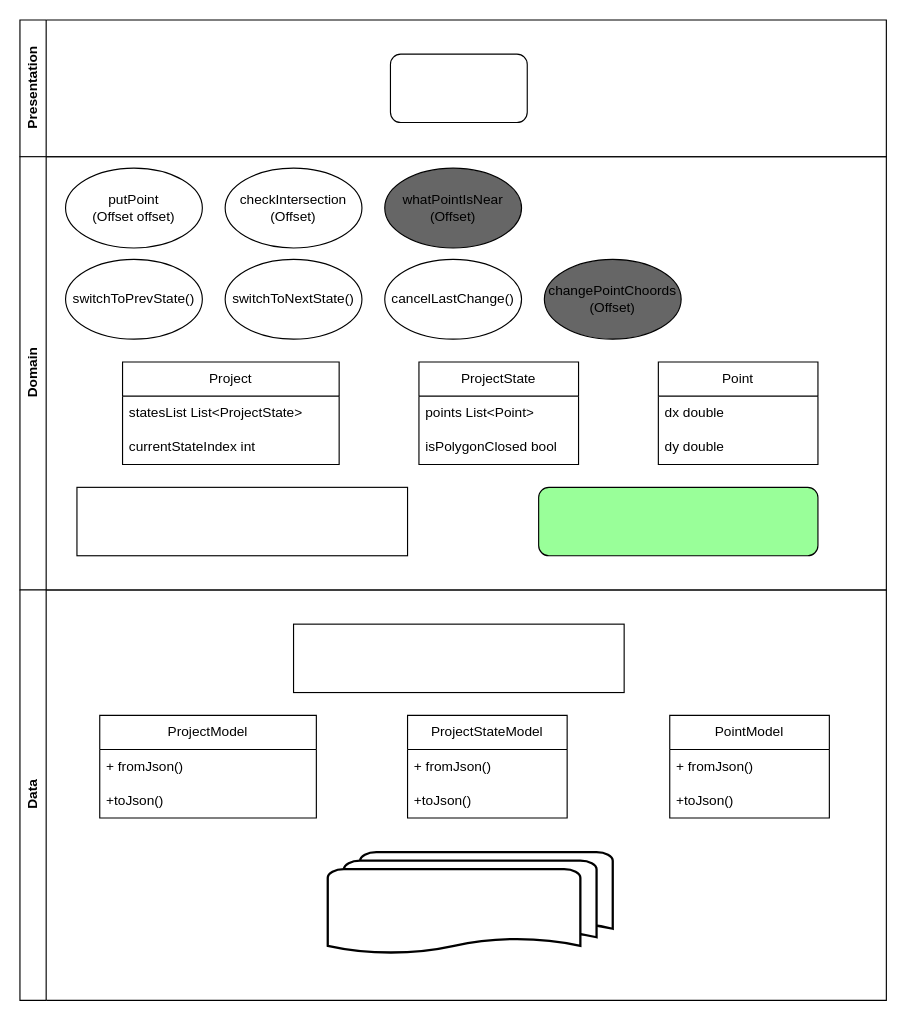
This 906x1020 diagram has some shape labels left out. The shapes that lost their labels are listed below. From the top down, each one's centre as x and y in pixels, then its label:
At point 458,88: "DrawScreen".
At point 242,521: "IProjectRepository".
At point 678,521: "projectDataProvider ChangeNotifierProvider".
At point 458,658: "ProjectRepositoryImpl with ChangeNotifier".
At point 469,902: "ProjectLocalDatasource".
